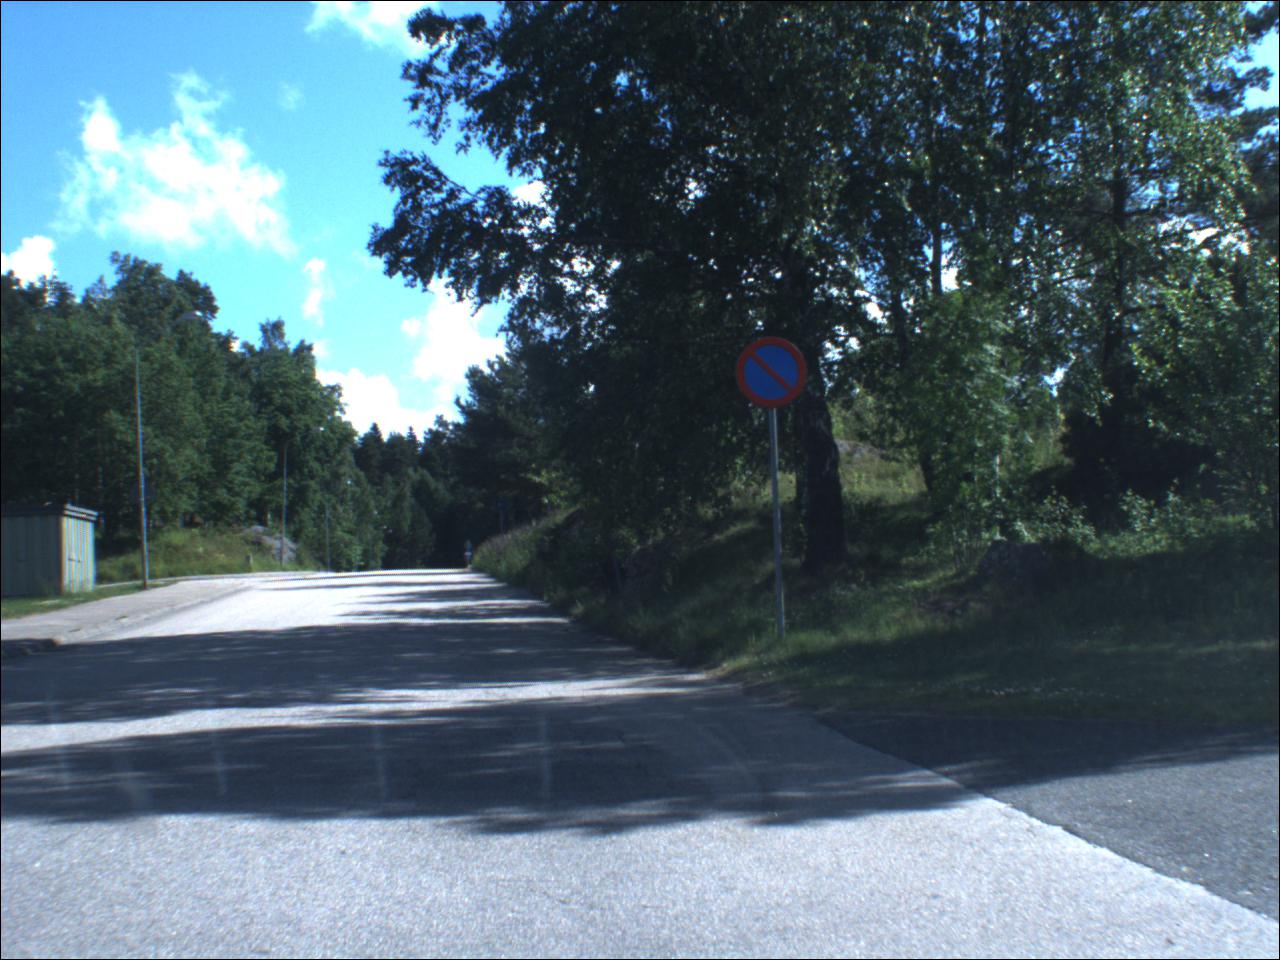NO_PARKING: (735, 336, 817, 416)
